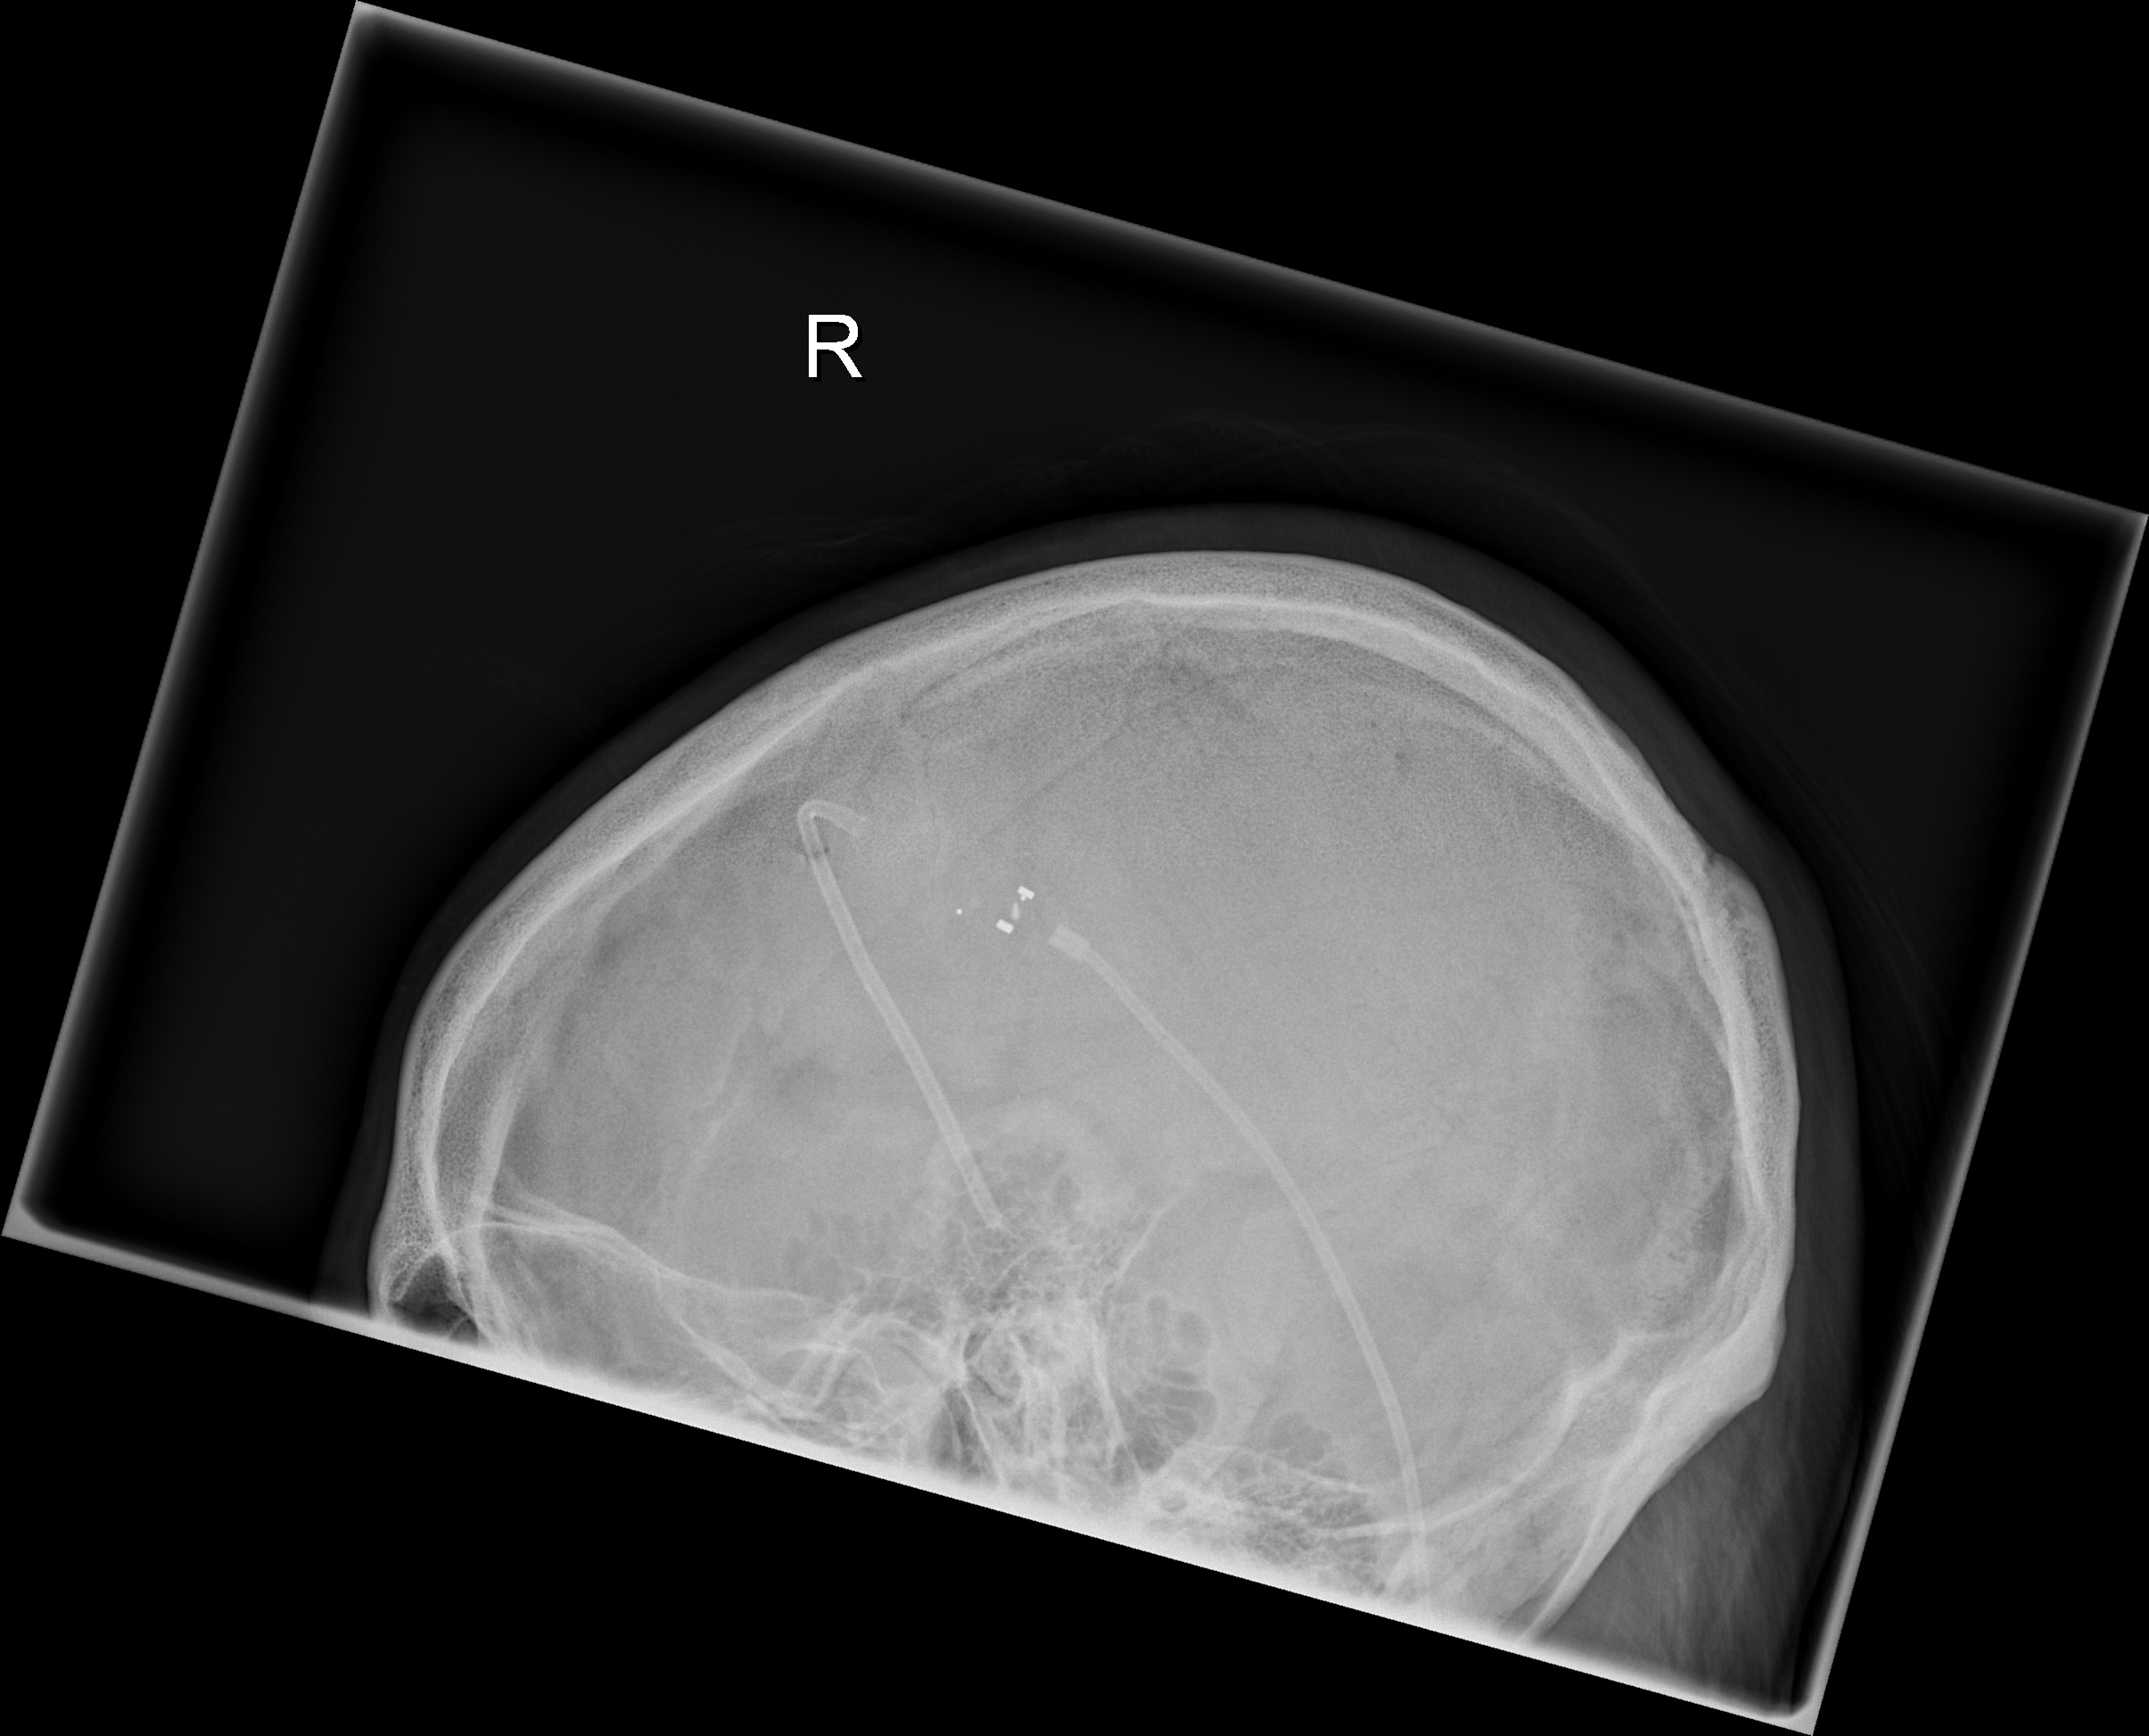Codman Certas: (943, 861, 1067, 964)
